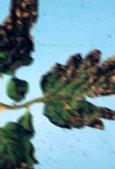Tomato Septoria leaf spot: (38, 39, 115, 142), (0, 0, 48, 89), (0, 110, 46, 169)
